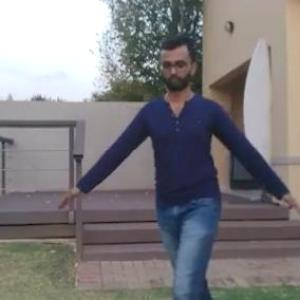land: (80, 43, 299, 299)
